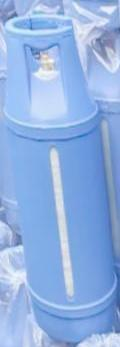cylinder: (1, 1, 120, 347)
